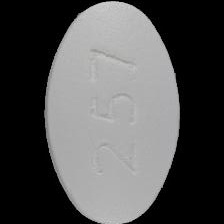68462-358: (0, 0, 224, 224)
